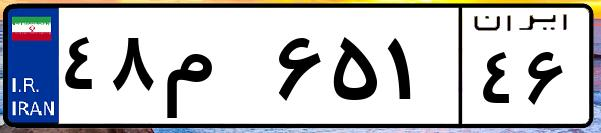1: (385, 28, 445, 110)
4: (57, 26, 110, 100), (475, 38, 525, 113)
5: (330, 28, 385, 110)
6: (270, 28, 330, 110), (525, 38, 570, 115)
8: (110, 28, 158, 98)
م: (158, 20, 270, 120)
